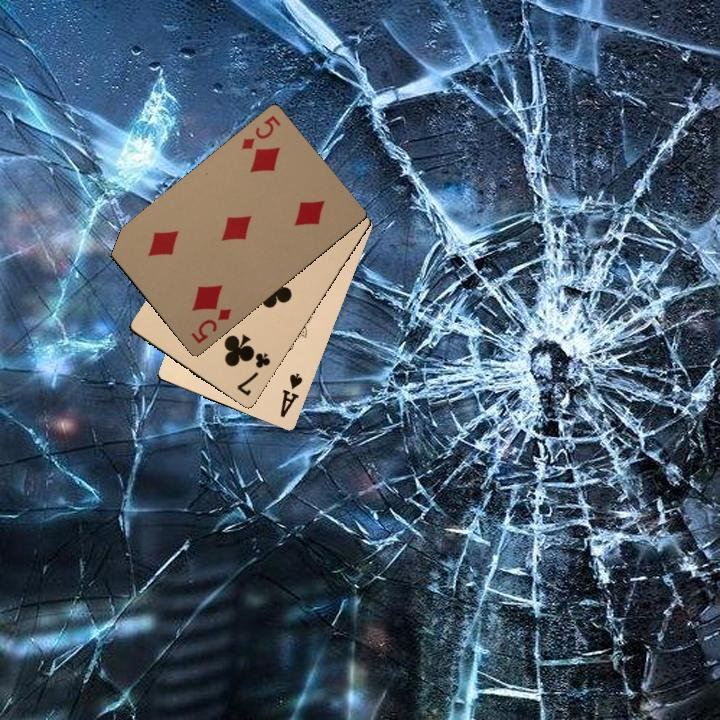5d: (187, 304, 234, 347), (237, 111, 283, 152)
7c: (233, 348, 273, 398)
As: (276, 369, 305, 420)
